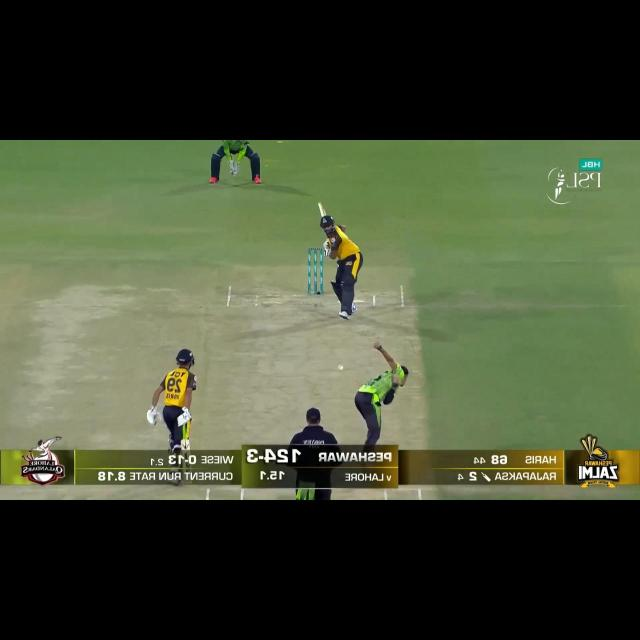bat: (316, 200, 327, 218), (181, 438, 190, 451)
toe: (316, 200, 324, 208), (183, 482, 192, 488)
